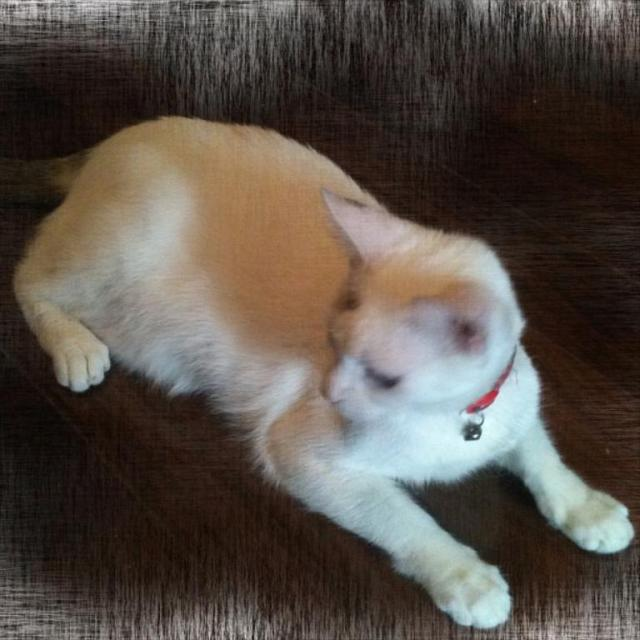Cat: (0, 114, 632, 628)
